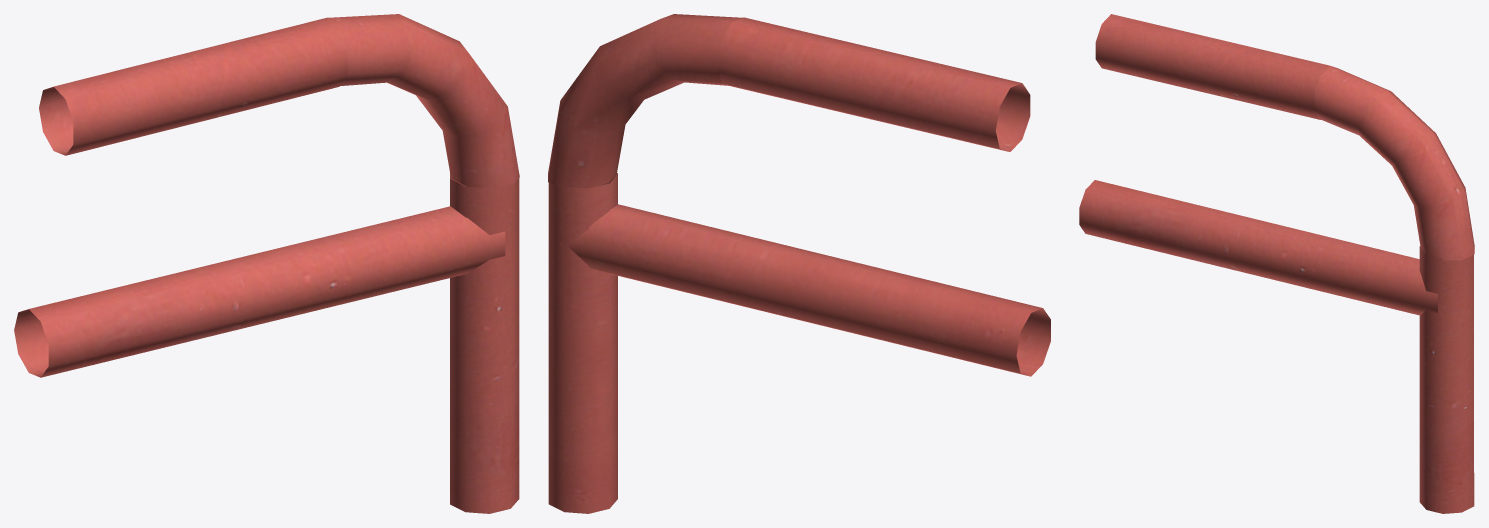
Rendered from CubeBaseFrontBarR.fbx.
The picture shows the model from 3 angles, left to right: view 1: azimuth 30°, elevation 25°; view 2: azimuth 150°, elevation 25°; view 3: azimuth 330°, elevation 25°; orthographic projection. The views are drawn at different scales.
Visible parts, largest first — view 1: polySurface4, polySurface3; view 2: polySurface4, polySurface3; view 3: polySurface4, polySurface3.
Boxes of the visible parts, box(x1,y1,x2,y2) form: polySurface4: box(14, 14, 519, 377); polySurface3: box(450, 173, 519, 513); polySurface4: box(548, 14, 1050, 376); polySurface3: box(548, 173, 617, 513); polySurface4: box(1079, 14, 1474, 315); polySurface3: box(1419, 246, 1474, 513).
Bounding box in the file's own units: 0.7844 × 0.8018 × 0.104.
1 material, 1 textured.
